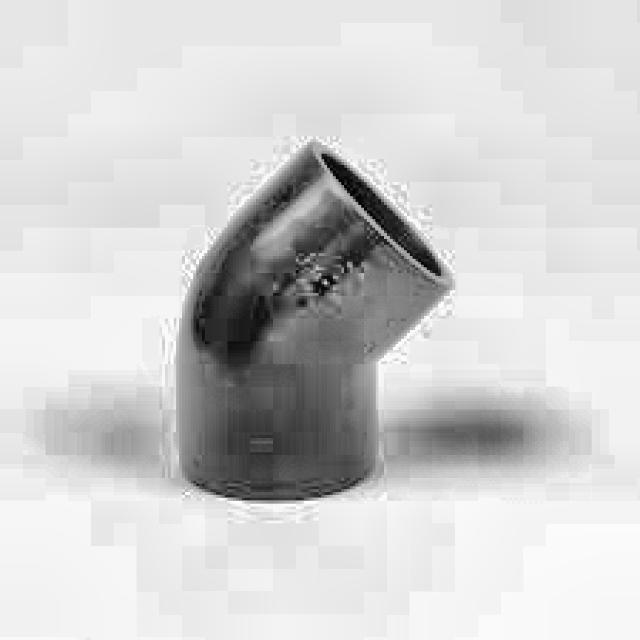ELBOW45: (179, 142, 455, 503)
